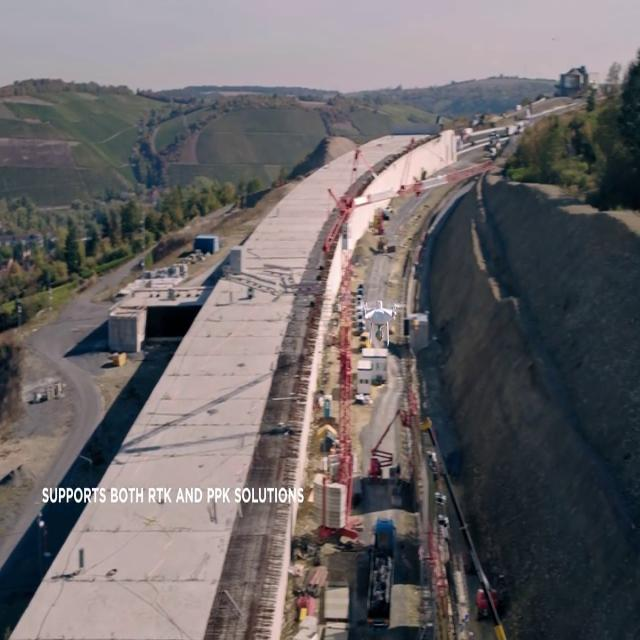drone: (354, 295, 406, 348)
